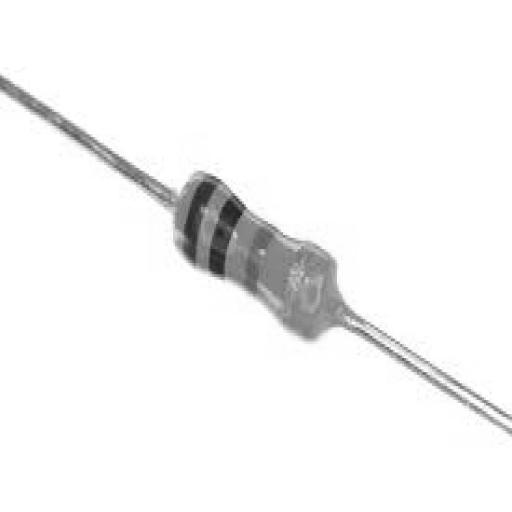RESISTOR: (97, 126, 415, 386)
